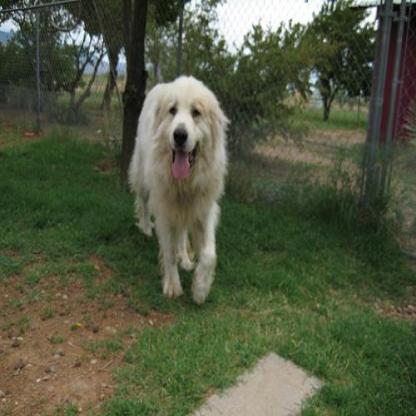Great_Pyrenees: (126, 73, 230, 305)
